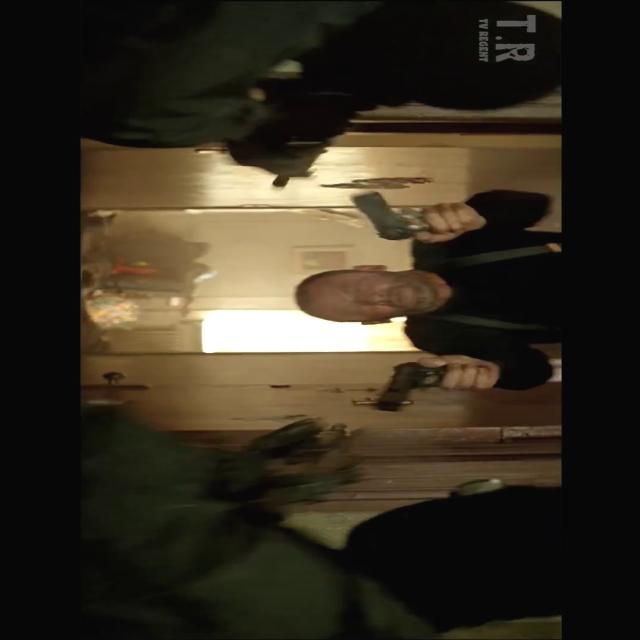handgun: (326, 170, 461, 250), (364, 360, 456, 414)
long weapon: (235, 72, 386, 204), (232, 406, 397, 509)
